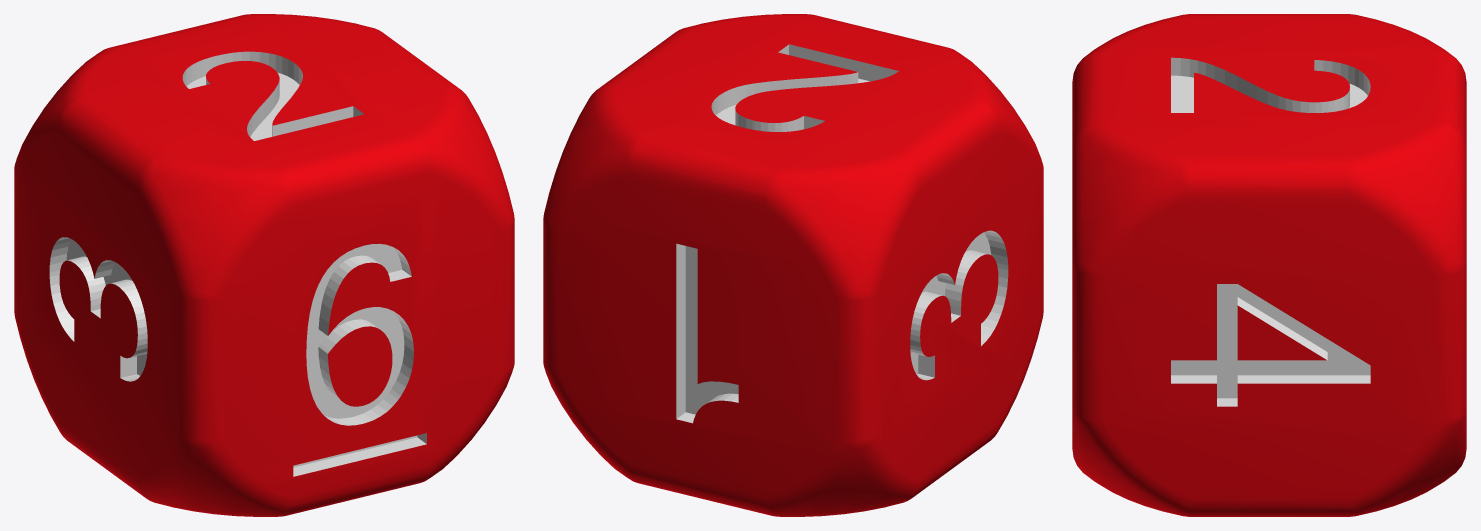
File: Die Numbered Secondary.glb
3 views of the same model, side by side, from view 1: azimuth 30°, elevation 25°; view 2: azimuth 150°, elevation 25°; view 3: azimuth 270°, elevation 25° (orthographic). The views are drawn at different scales.
Parts seen in each view (by area): view 1: Die_Body; view 2: Die_Body; view 3: Die_Body.
Boxes of the visible parts, x1,y1,x2,y2 form: Die_Body: [14, 14, 514, 516]; Die_Body: [543, 14, 1043, 516]; Die_Body: [1072, 14, 1466, 516].
Bounding box in the file's own units: 1 × 1 × 1.
